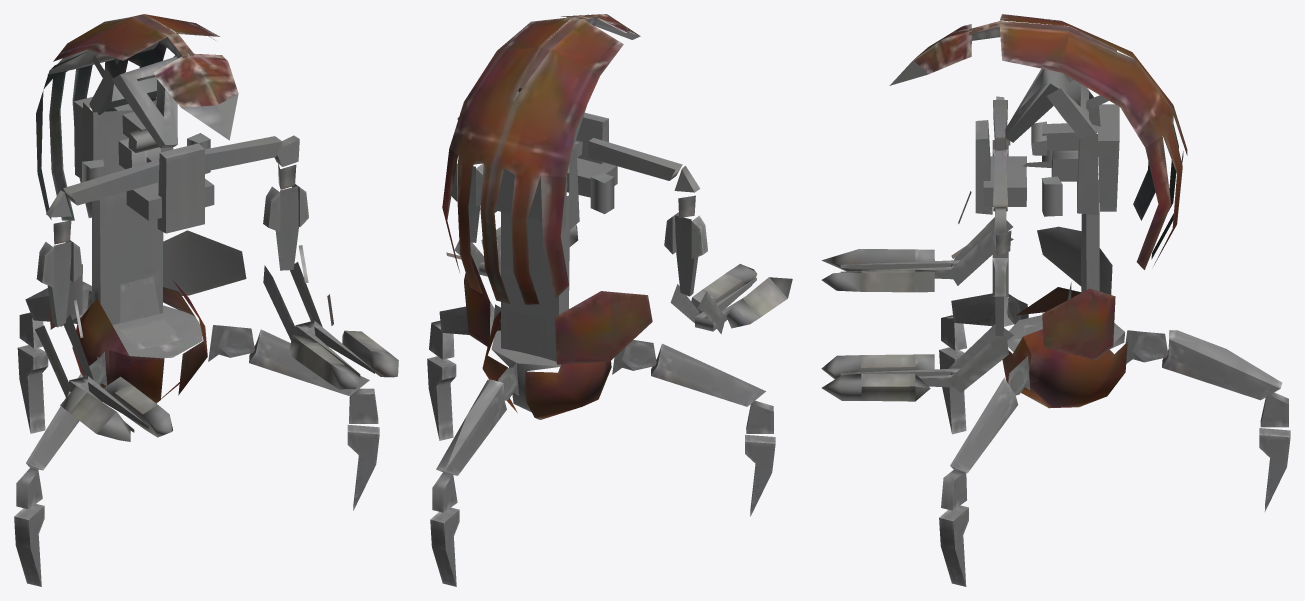
File: droideka.far.glb
The picture shows the model from 3 angles, left to right: view 1: azimuth 30°, elevation 25°; view 2: azimuth 150°, elevation 25°; view 3: azimuth 270°, elevation 25°; orthographic projection. The views are drawn at different scales.
Size of the model in its own units: 1.56 by 2.02 by 1.77.
Materials: 1 (1 with a texture image).
